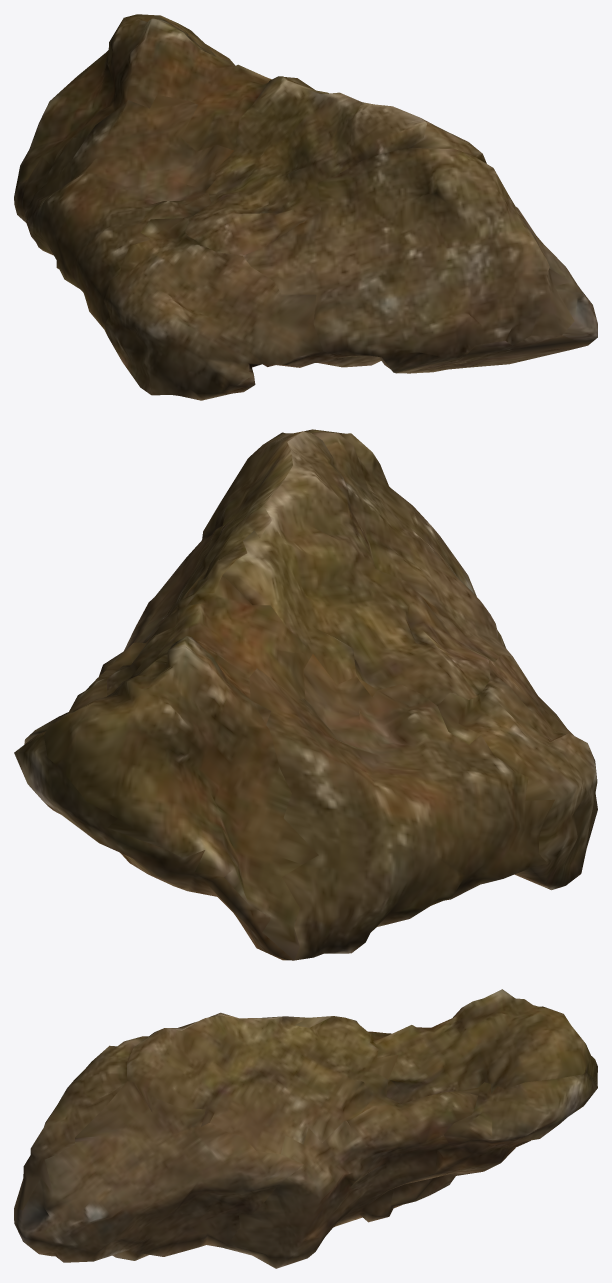
File: SM_RockMoss_A01.gltf
3 renders of one model, top to bottom at view 1: azimuth 30°, elevation 25°; view 2: azimuth 150°, elevation 25°; view 3: azimuth 270°, elevation 25°, orthographic. The views are drawn at different scales.
Parts seen in each view (by area): view 1: SM_RockMoss_A01; view 2: SM_RockMoss_A01; view 3: SM_RockMoss_A01.
Boxes of the visible parts, <box> form: SM_RockMoss_A01: <box>14,14,597,400</box>; SM_RockMoss_A01: <box>14,429,597,960</box>; SM_RockMoss_A01: <box>14,989,597,1268</box>.
Bounding box in the file's own units: 2.24 × 1.47 × 3.36.
Materials: 1 (1 with a texture image).
